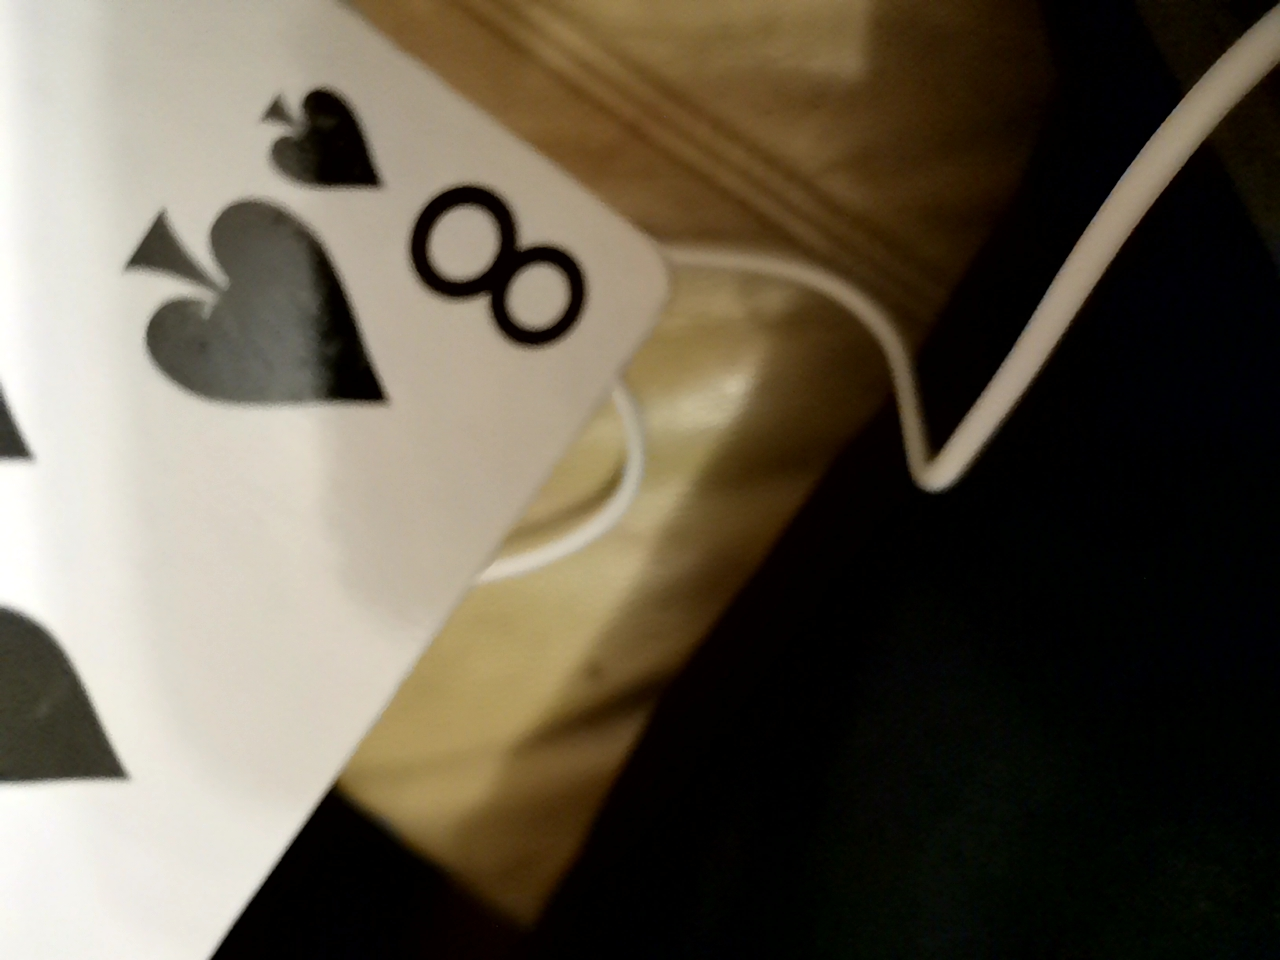ht 8: (9, 0, 772, 955)
